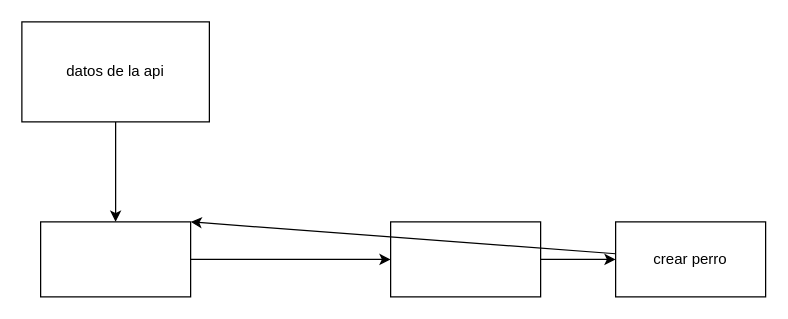
This 788x319 diagram has some shape labels left out. The centre of each missing label's shape, as x and y in pixels:
"datos de db" goes at [115,259].
"front" goes at [465,259].
